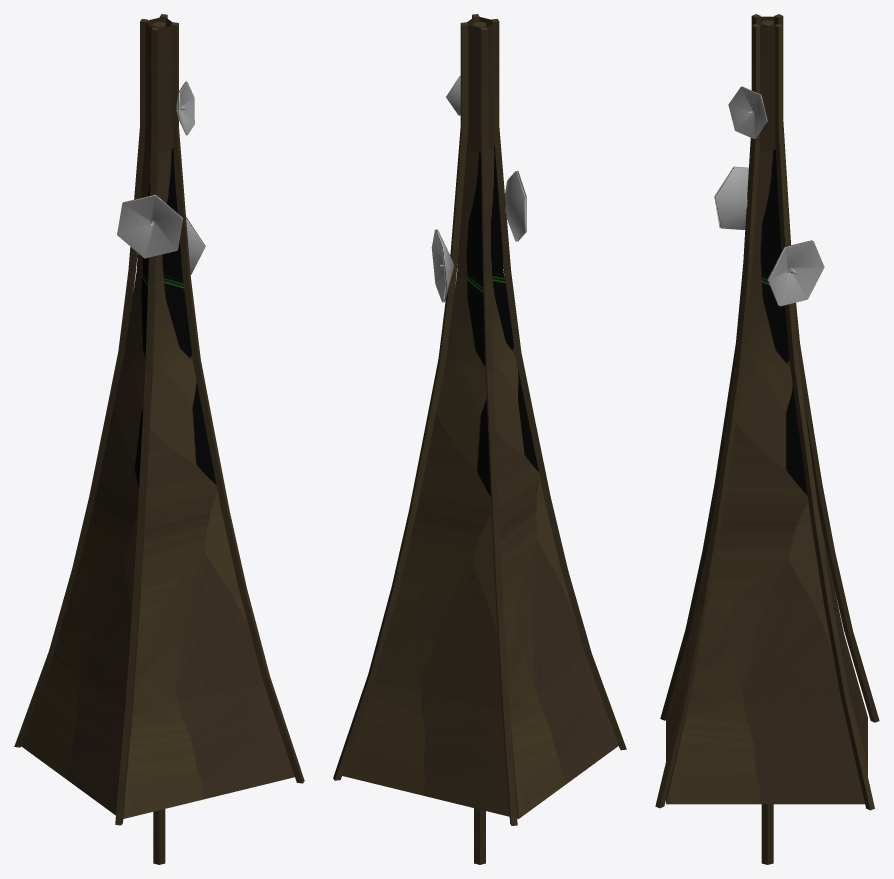
Rendered from radio tower.fbx.
The picture shows the model from 3 angles, left to right: view 1: azimuth 30°, elevation 25°; view 2: azimuth 150°, elevation 25°; view 3: azimuth 270°, elevation 25°; orthographic projection.
Parts seen in each view (by area): view 1: pCylinder68, pCylinder34, pCylinder33, pCylinder35; view 2: pCylinder68, pCylinder34, pCylinder35; view 3: pCylinder68, pCylinder35, pCylinder34, pCylinder33.
Part boxes in pixels (box(x1,y1,x2,y2)): pCylinder68: box(14, 14, 304, 864); pCylinder34: box(117, 194, 183, 258); pCylinder33: box(176, 81, 194, 135); pCylinder35: box(186, 216, 205, 274); pCylinder68: box(333, 14, 626, 864); pCylinder34: box(505, 171, 526, 241); pCylinder35: box(431, 229, 453, 302); pCylinder68: box(655, 14, 879, 864); pCylinder35: box(767, 240, 824, 306); pCylinder34: box(714, 166, 748, 229); pCylinder33: box(728, 86, 767, 138).
Bounding box in the file's own units: 12.9 × 54.13 × 13.08.
